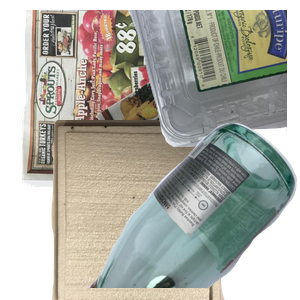glass: (86, 120, 300, 300)
paper: (18, 10, 258, 190)
plastic: (60, 10, 300, 149)
trash: (49, 120, 269, 300)
